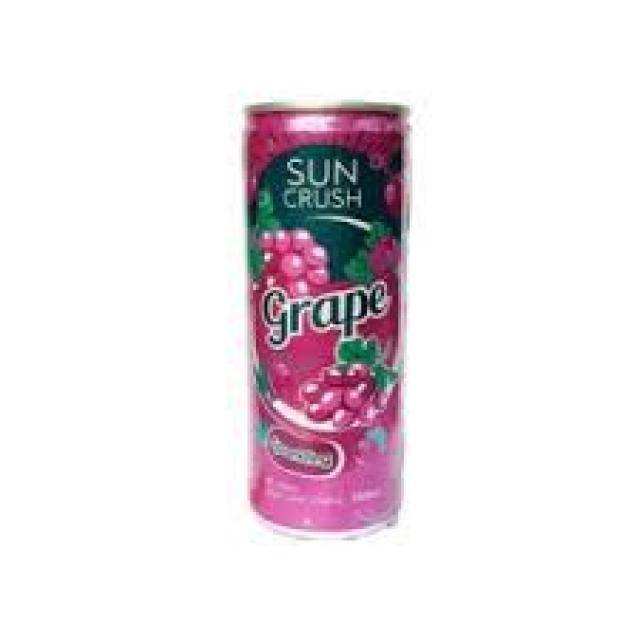Cans: (233, 88, 418, 543)
